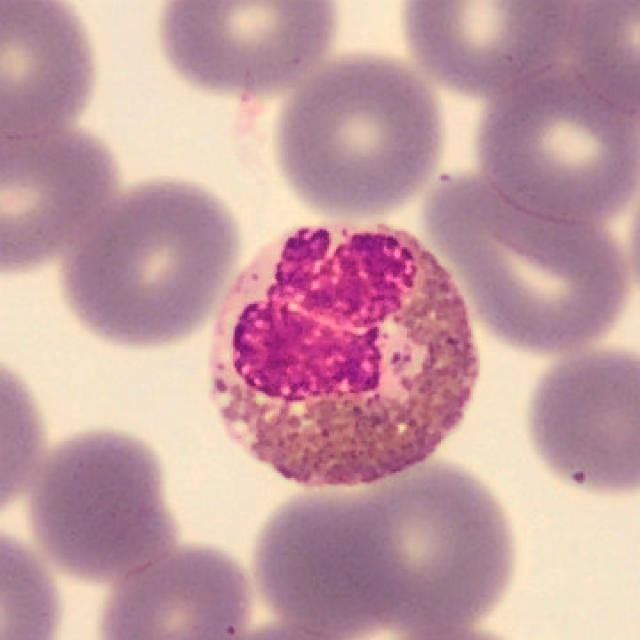Eosinofilo: (206, 226, 480, 489)
